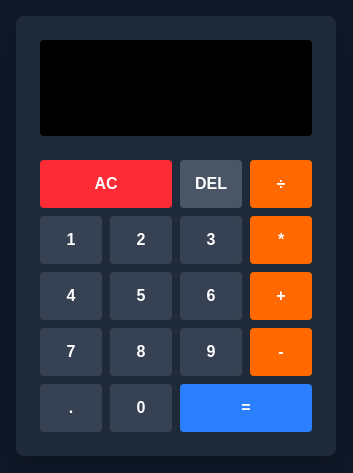
Test: Calculator › deletes digits
Click the button "1" at (71, 240), box top-left (40, 216), bottom-right (102, 264)
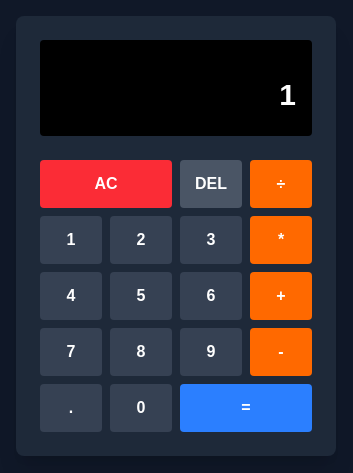
Click the button "2" at (141, 240), box top-left (110, 216), bottom-right (172, 264)
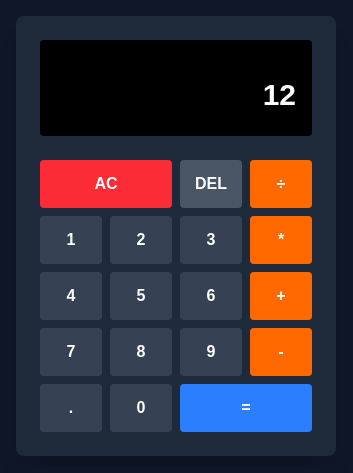
Click the button "DEL" at (211, 184), box top-left (180, 160), bottom-right (242, 208)
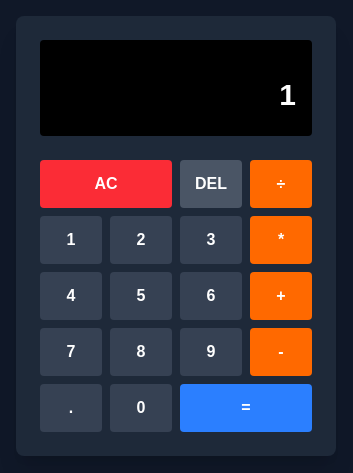
Check: the text with test id "current-operand" reads "1", box top-left (279, 78), bottom-right (296, 111)
